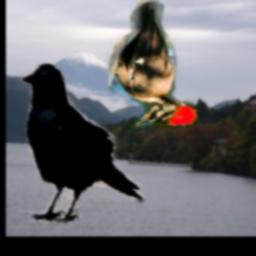Crow: (19, 61, 147, 224)
Woodpecker: (106, 1, 197, 129)
